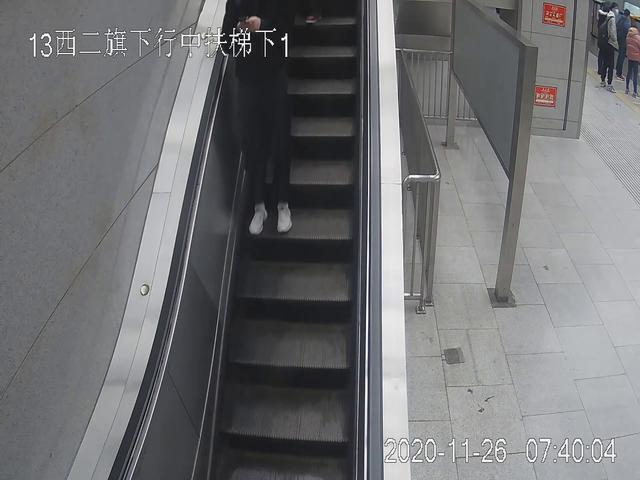person: (224, 1, 299, 235), (599, 5, 620, 92), (623, 22, 640, 96)
